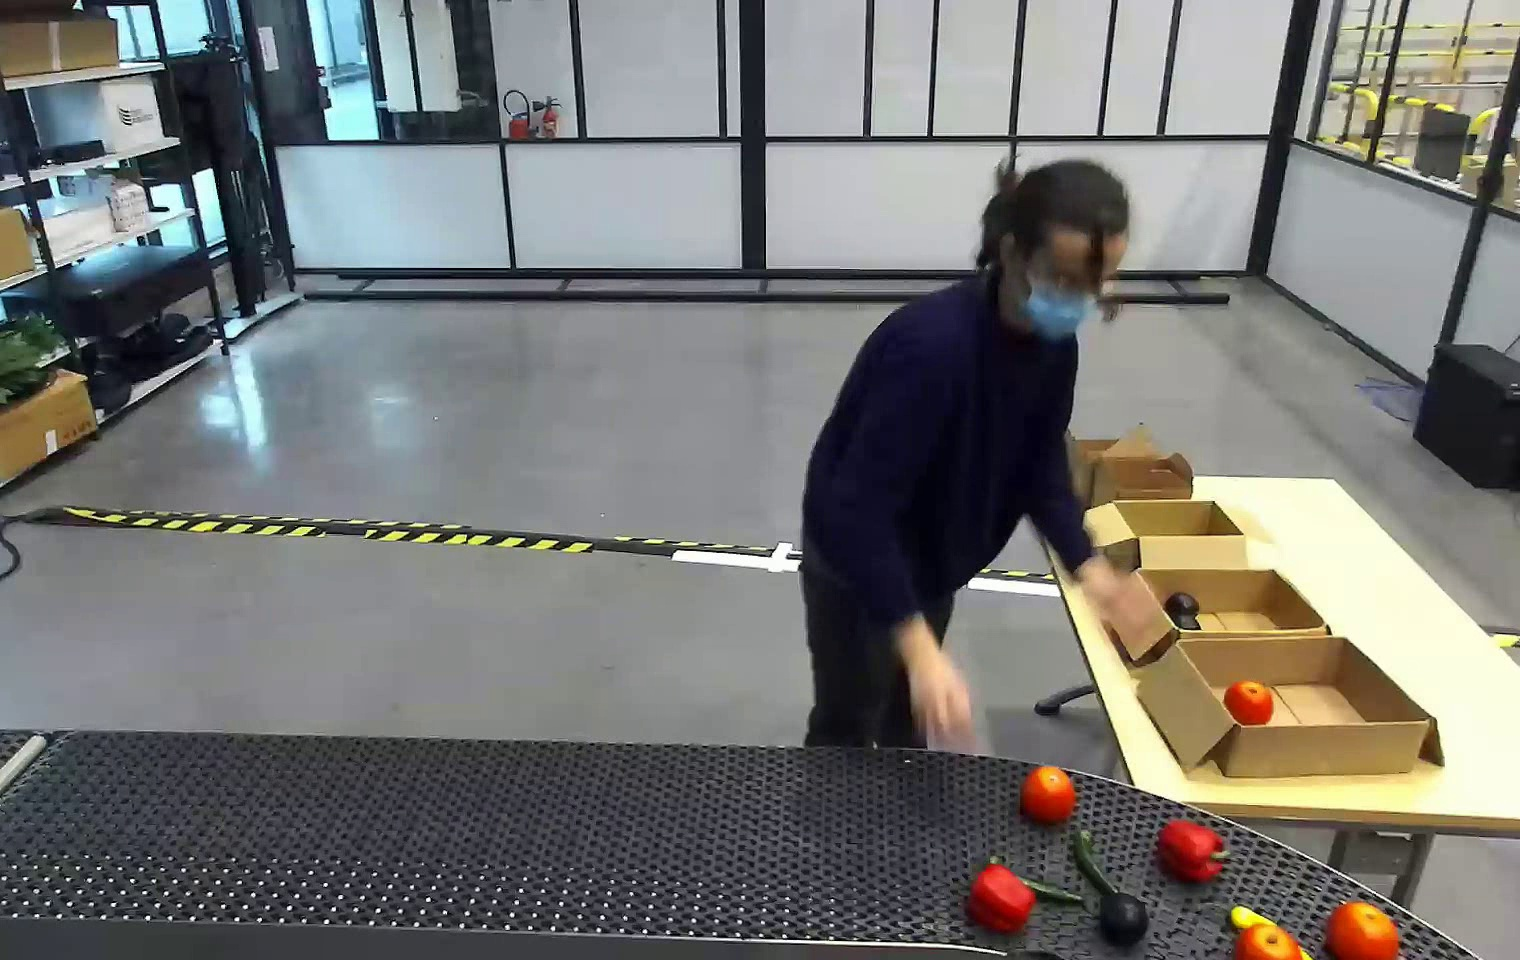Main droite: (1121, 479, 1166, 533)
